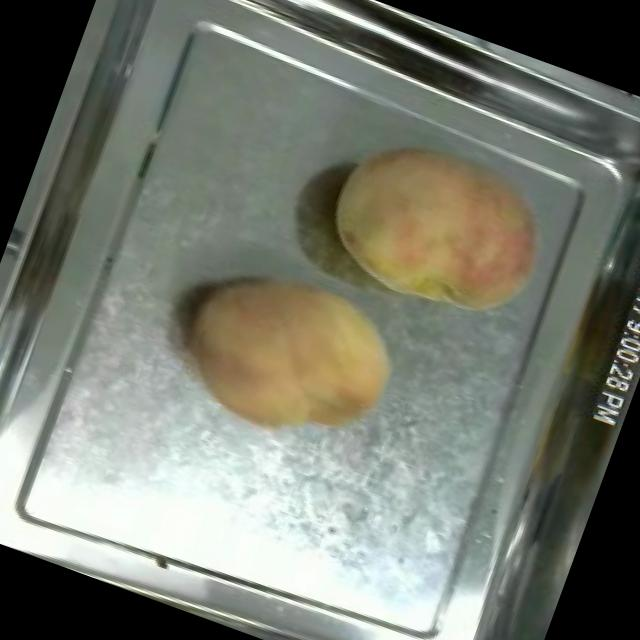Fruit: (305, 108, 577, 346), (156, 238, 423, 477)
